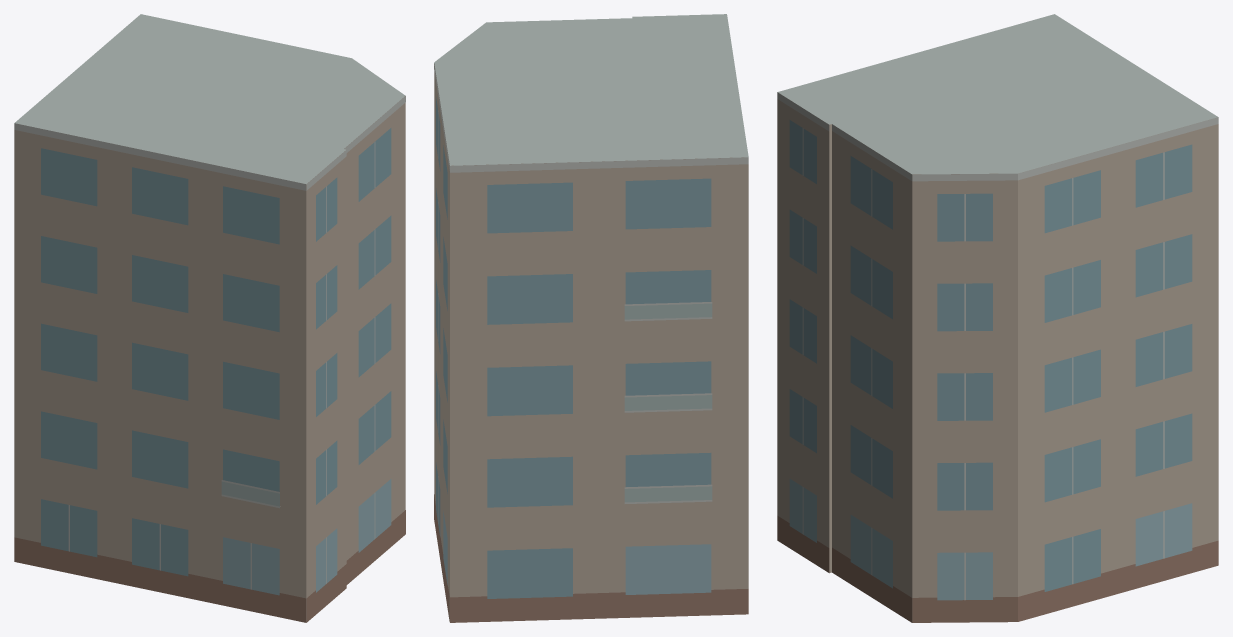
Rendered from survey-upis-32716759.glb.
3 renders of one model, left to right at view 1: azimuth 30°, elevation 25°; view 2: azimuth 150°, elevation 25°; view 3: azimuth 270°, elevation 25°, orthographic. The views are drawn at different scales.
Visible parts, largest first — view 1: survey-upis-32716759.tmp; view 2: survey-upis-32716759.tmp; view 3: survey-upis-32716759.tmp.
Part boxes in pixels (x1=…): survey-upis-32716759.tmp: x1=14, y1=14, x2=405, y2=622; survey-upis-32716759.tmp: x1=434, y1=14, x2=748, y2=622; survey-upis-32716759.tmp: x1=777, y1=14, x2=1218, y2=622.
Size of the model in its own units: 12.29 by 16 by 14.27.
